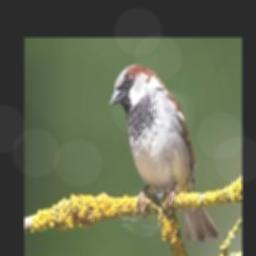Sparrow: (109, 62, 218, 241)
